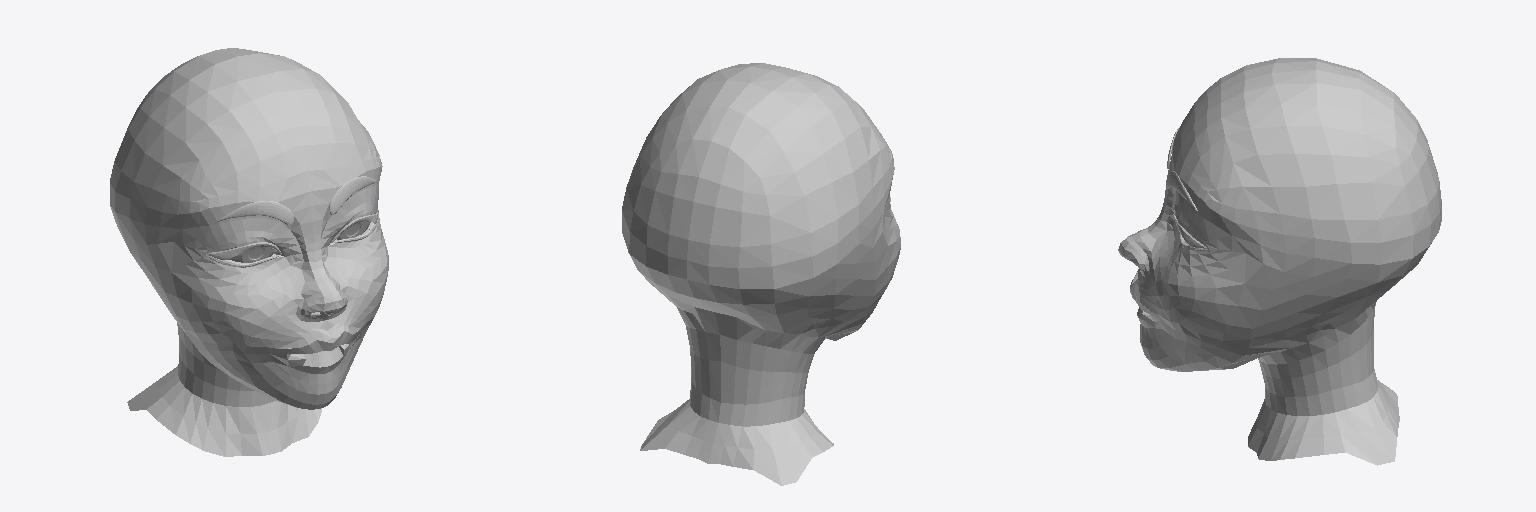
3 renders of one model, left to right at view 1: azimuth 30°, elevation 25°; view 2: azimuth 150°, elevation 25°; view 3: azimuth 270°, elevation 25°, orthographic.
Visible parts, largest first — view 1: m_body_Plane.016; view 2: m_body_Plane.016; view 3: m_body_Plane.016.
Boxes of the visible parts, <box> form: m_body_Plane.016: <box>110,48,388,456</box>; m_body_Plane.016: <box>622,63,900,485</box>; m_body_Plane.016: <box>1118,58,1441,465</box>.
Size of the model in its own units: 0.7869 by 1.29 by 1.01.